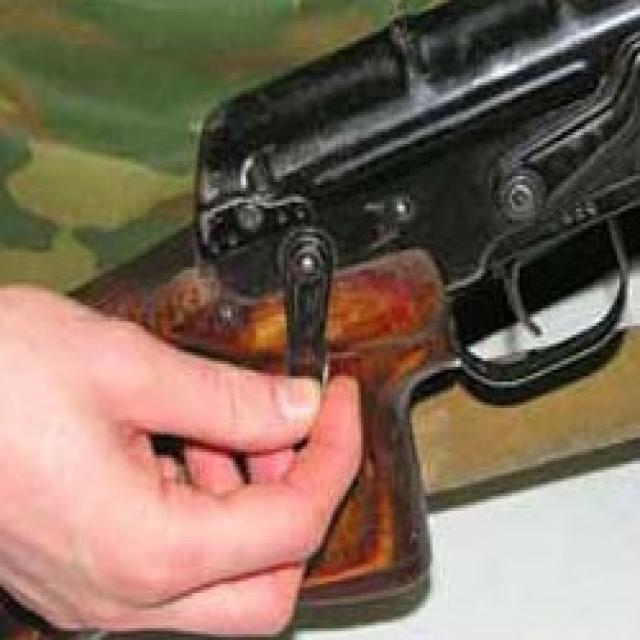firearm: (113, 0, 640, 620)
